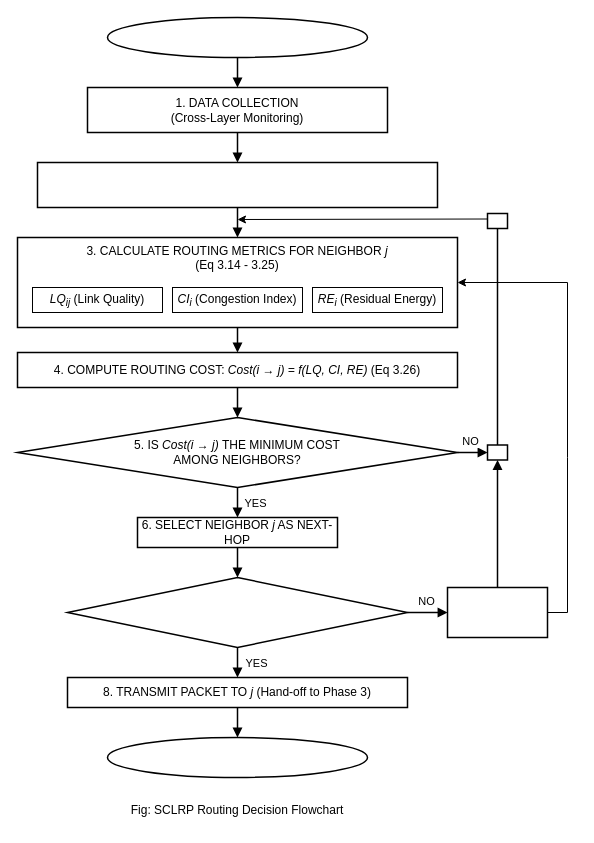
This 594x843 diagram has some shape labels left out. Here are the shapes that lost their labels. From the top down, the centre of each, then its label:
point 237,37: START: New Packet for Routing
point 237,184: 2. NEIGHBOR DISCOVERY & LOCAL STATE UPDATE (Distributed Knowledge)
point 237,612: 7. IS NEXT-HOP VALID AND PATH TO SINK EXIST?
point 497,612: REROUTING TRIGGER
point 237,757: END: Transmission Successful
